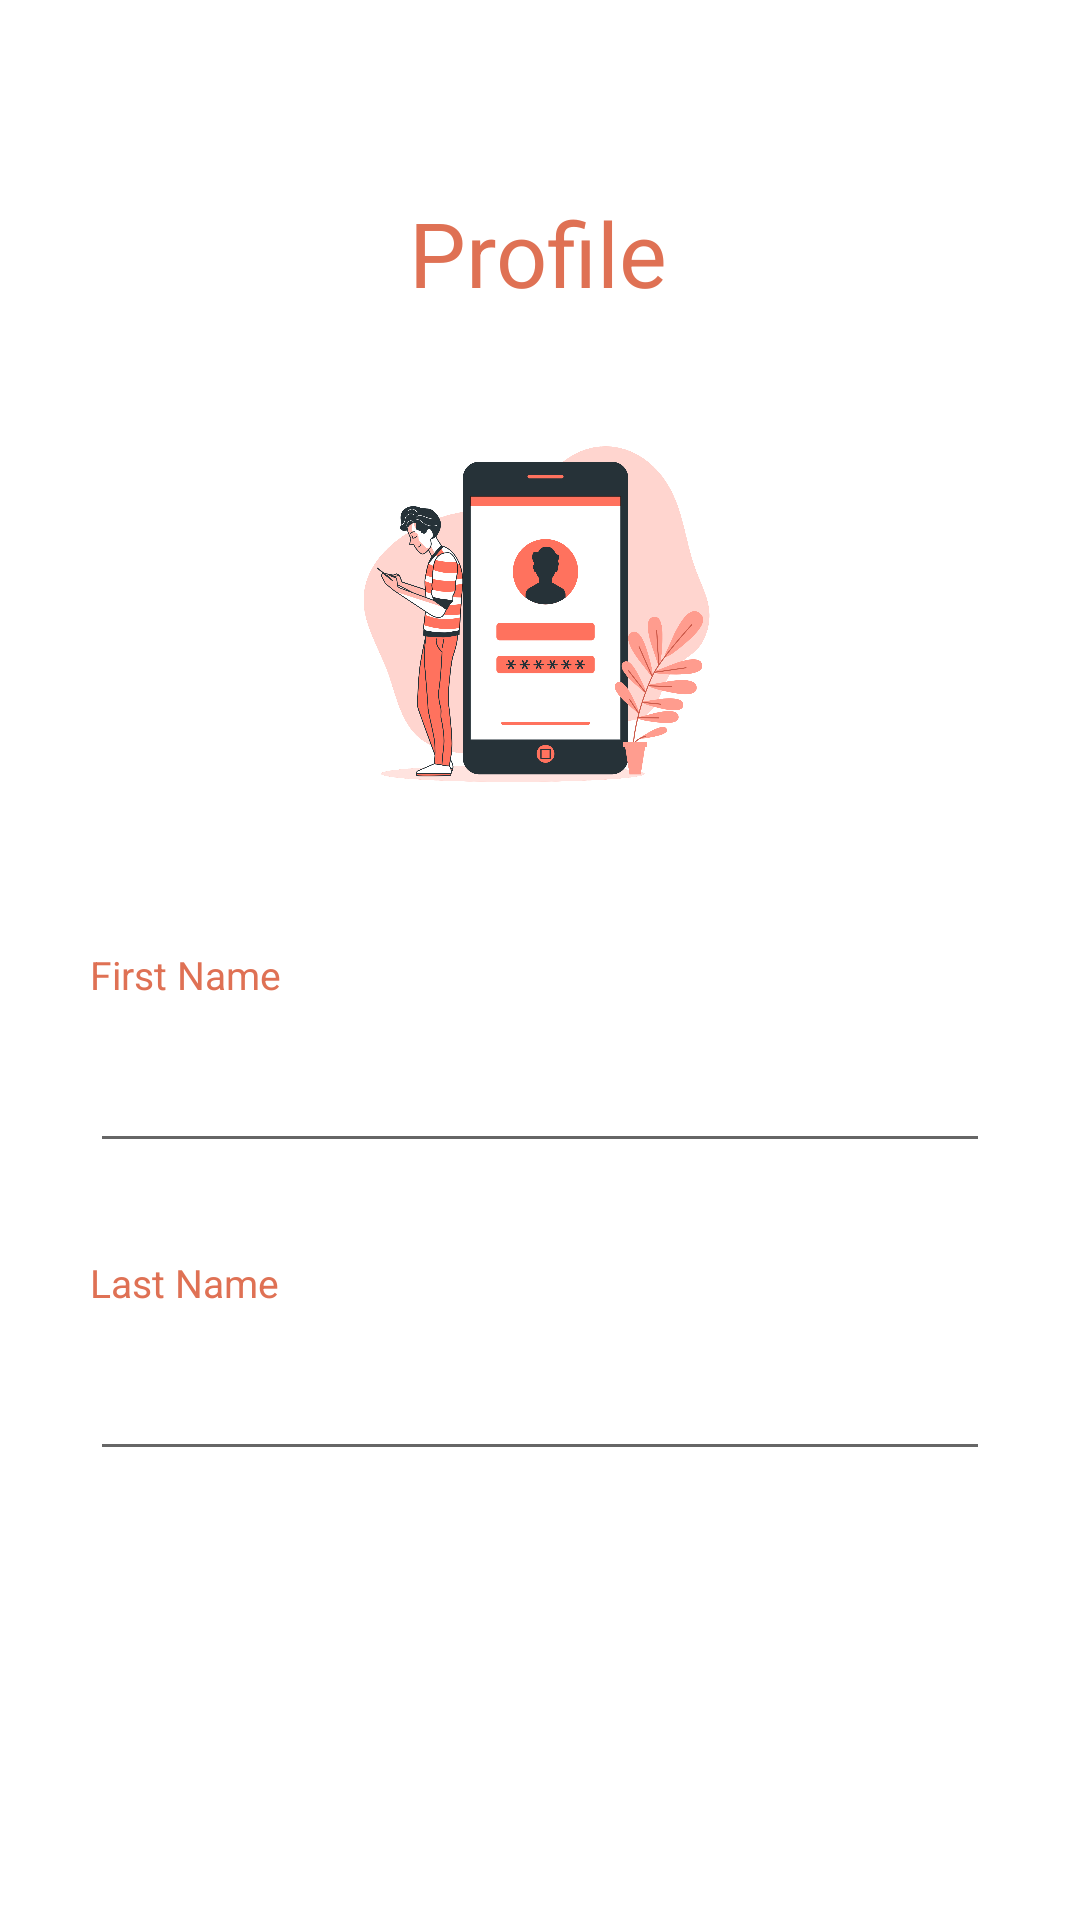

Icon bounding boxes for this 1080×1920 phone screenshot, format bbox(x1, y1, x2, y2):
illustration login: bbox(364, 446, 709, 782)
